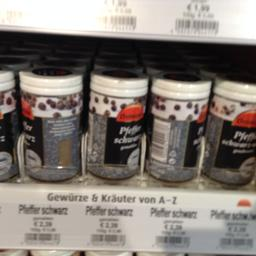spices: (16, 65, 83, 182), (86, 66, 148, 180), (148, 70, 210, 180), (204, 73, 254, 182)
